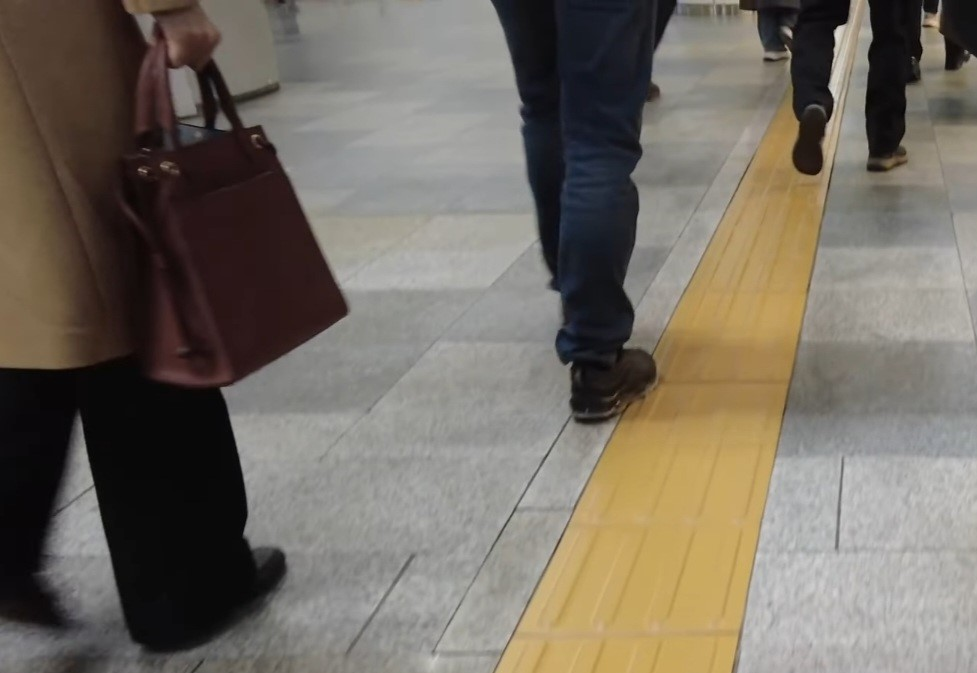guideBlock: (562, 526, 712, 625), (614, 446, 758, 524), (670, 296, 786, 391), (643, 375, 758, 466), (698, 258, 797, 333)
